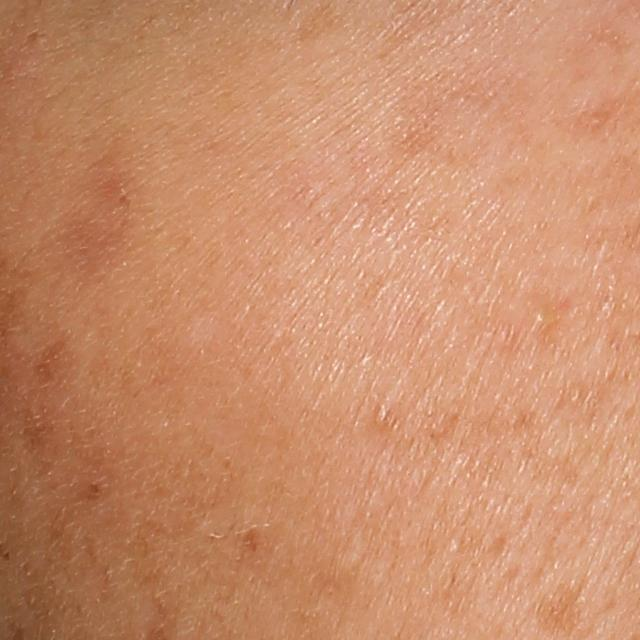melasma: (385, 53, 547, 163), (31, 158, 147, 295)
